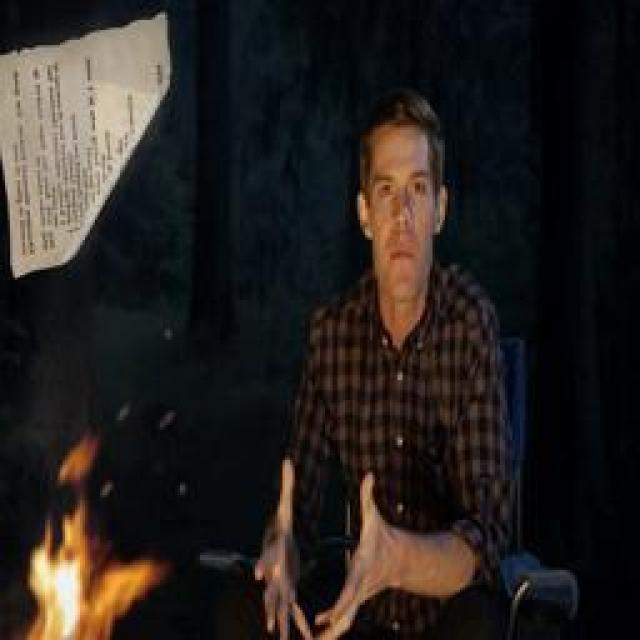Fire: (24, 437, 164, 640)
